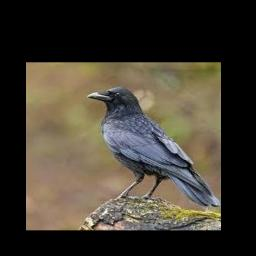Crow: (87, 86, 221, 207)
